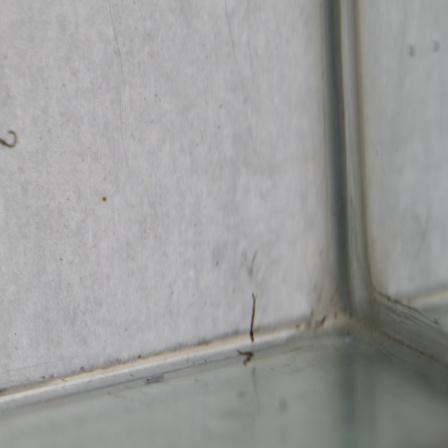Jentik-Nyamuk: (248, 290, 260, 345), (0, 122, 22, 152)
